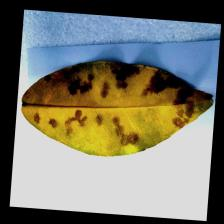black spot: (49, 62, 197, 151)
